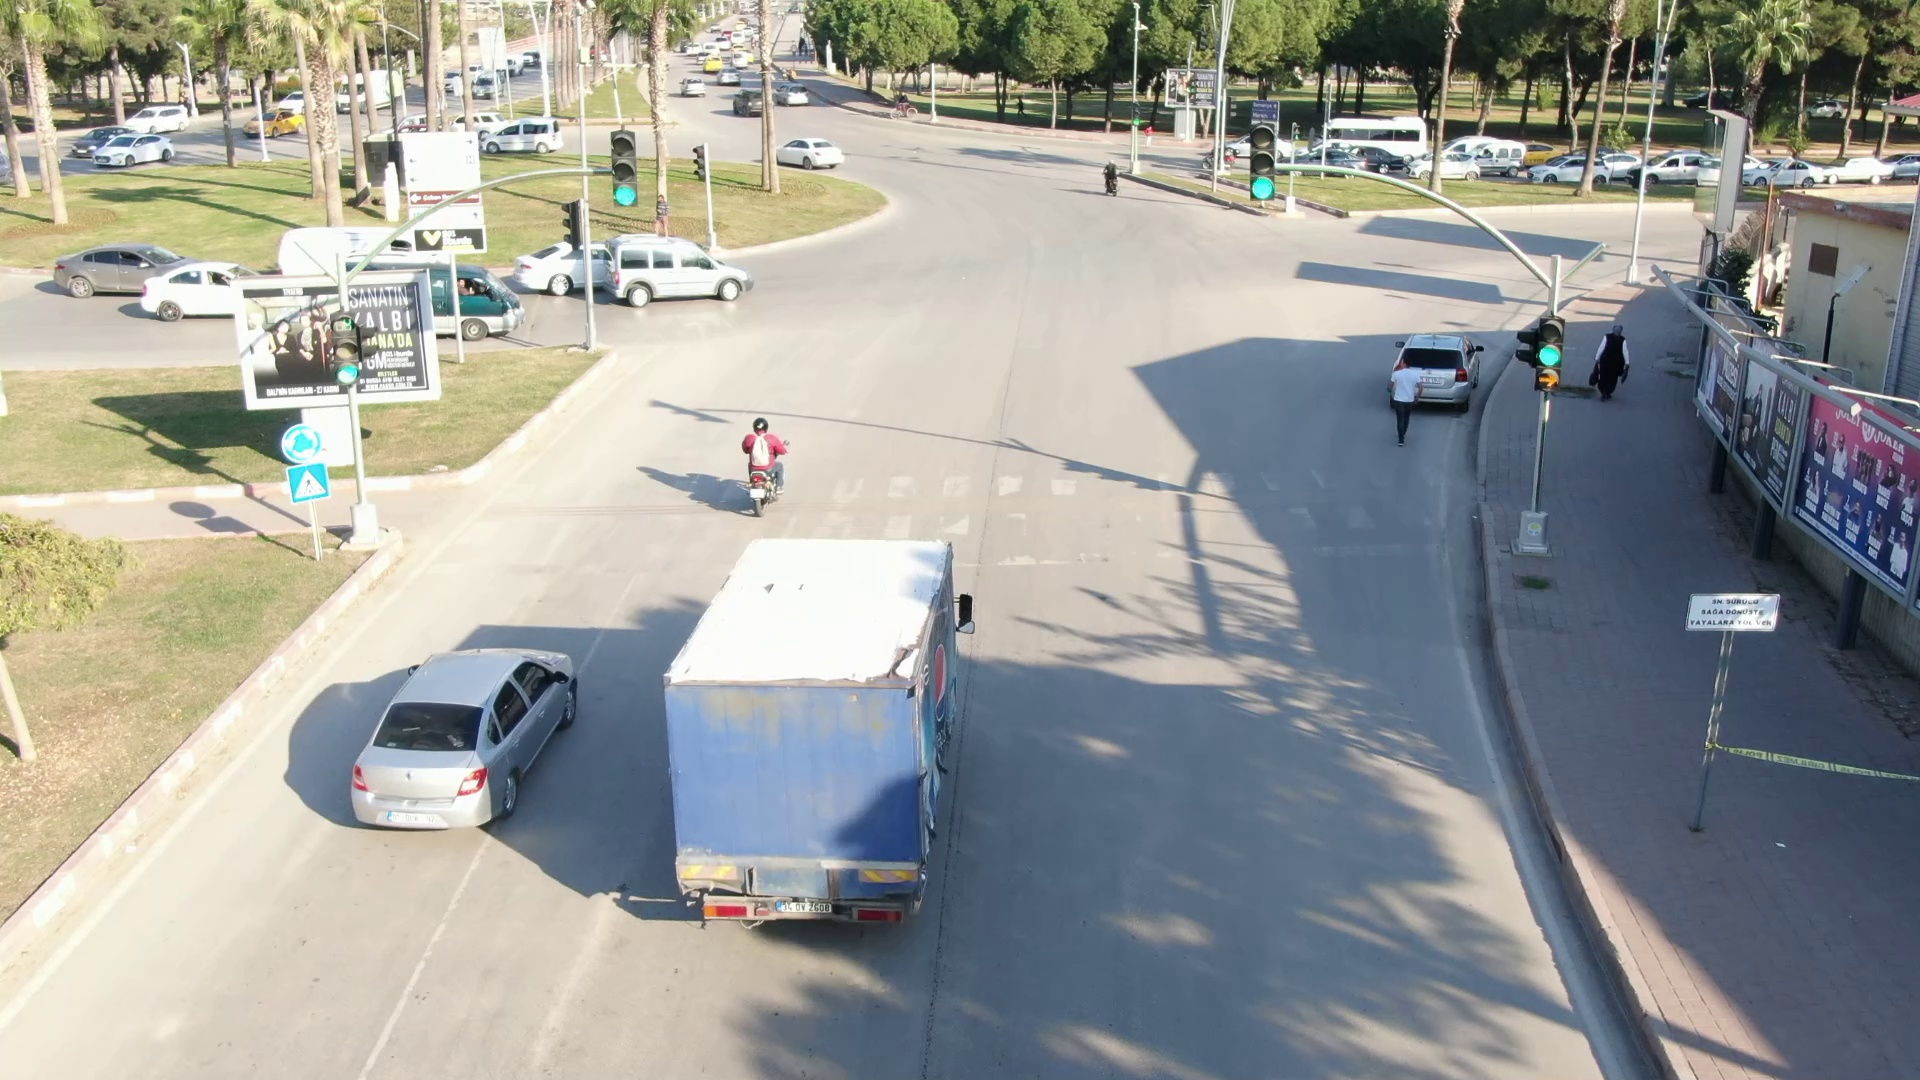car: (342, 621, 597, 833), (596, 227, 762, 304), (431, 259, 551, 346), (46, 237, 197, 306), (773, 129, 855, 177), (91, 130, 183, 169), (1403, 143, 1483, 185), (674, 70, 708, 98)
person: (731, 393, 789, 485), (1382, 346, 1424, 451), (1587, 318, 1634, 405)
